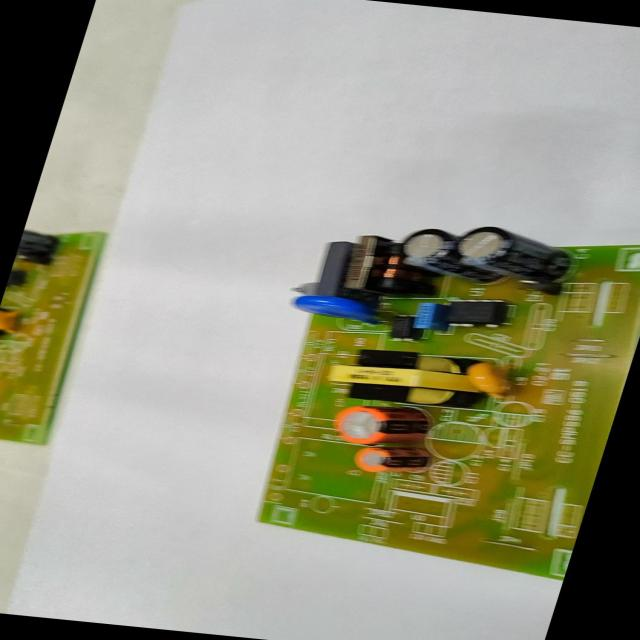Cap1: (317, 400, 437, 452)
Cap2: (344, 444, 438, 479)
Cap3: (393, 224, 459, 282)
Cap4: (444, 220, 580, 286)
MOSFET: (441, 294, 510, 331)
Mov: (283, 293, 383, 322)
Resistor: (287, 280, 324, 298)
Transformer: (316, 341, 488, 410), (334, 230, 440, 297)
